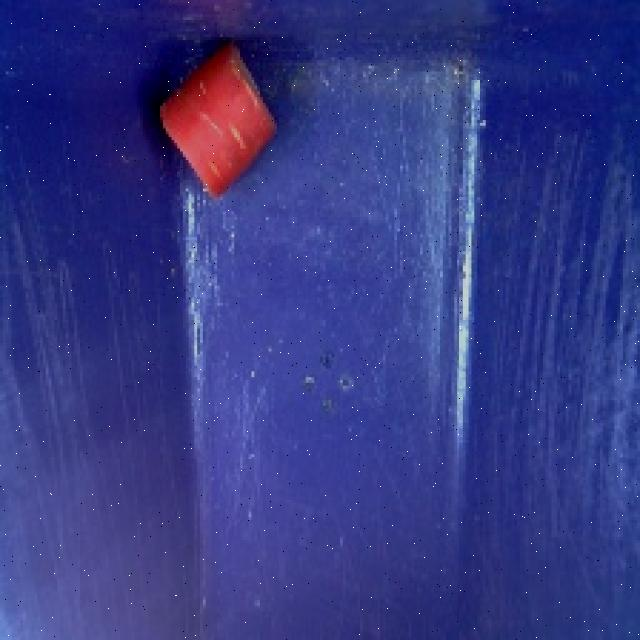carrots: (146, 36, 290, 206)
